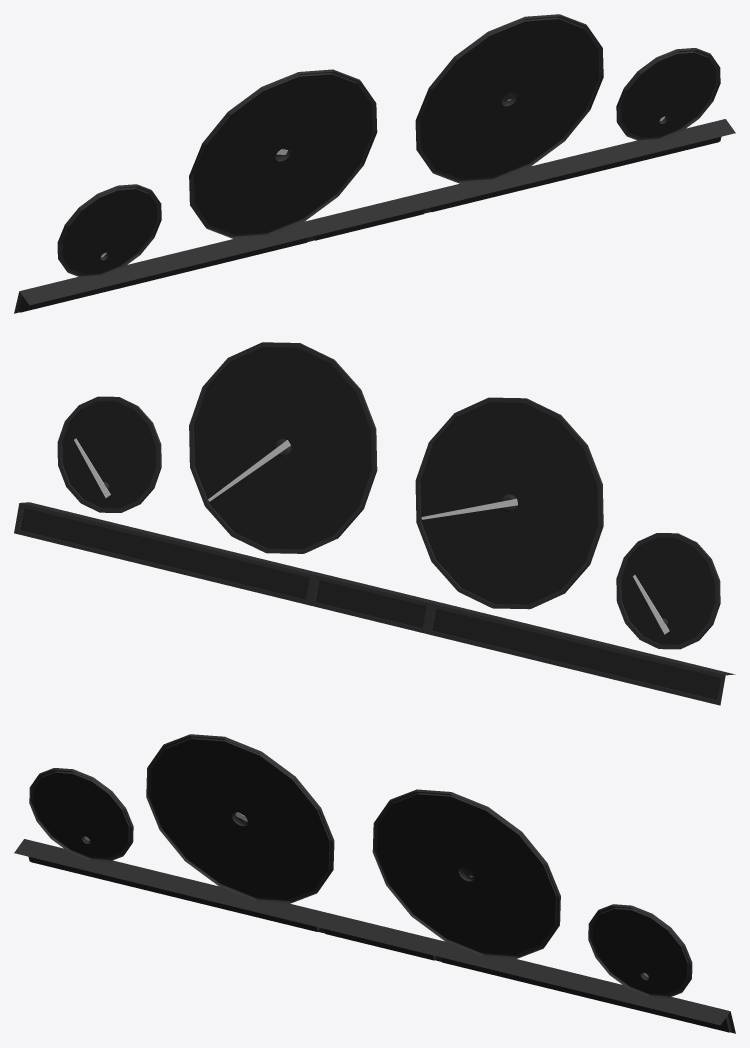
The model's file is e30dashboard.fbx.
3 renders of one model, top to bottom at view 1: azimuth 30°, elevation 25°; view 2: azimuth 150°, elevation 25°; view 3: azimuth 330°, elevation 25°, orthographic.
Visible parts, largest first — view 1: DashboardMain; view 2: DashboardMain; view 3: DashboardMain.
Part boxes in pixels (x1,y1,x2,y2): DashboardMain: (14, 14, 735, 313); DashboardMain: (14, 342, 735, 705); DashboardMain: (14, 734, 735, 1033).
Size of the model in its own units: 0.3735 by 0.1091 by 0.0424.
